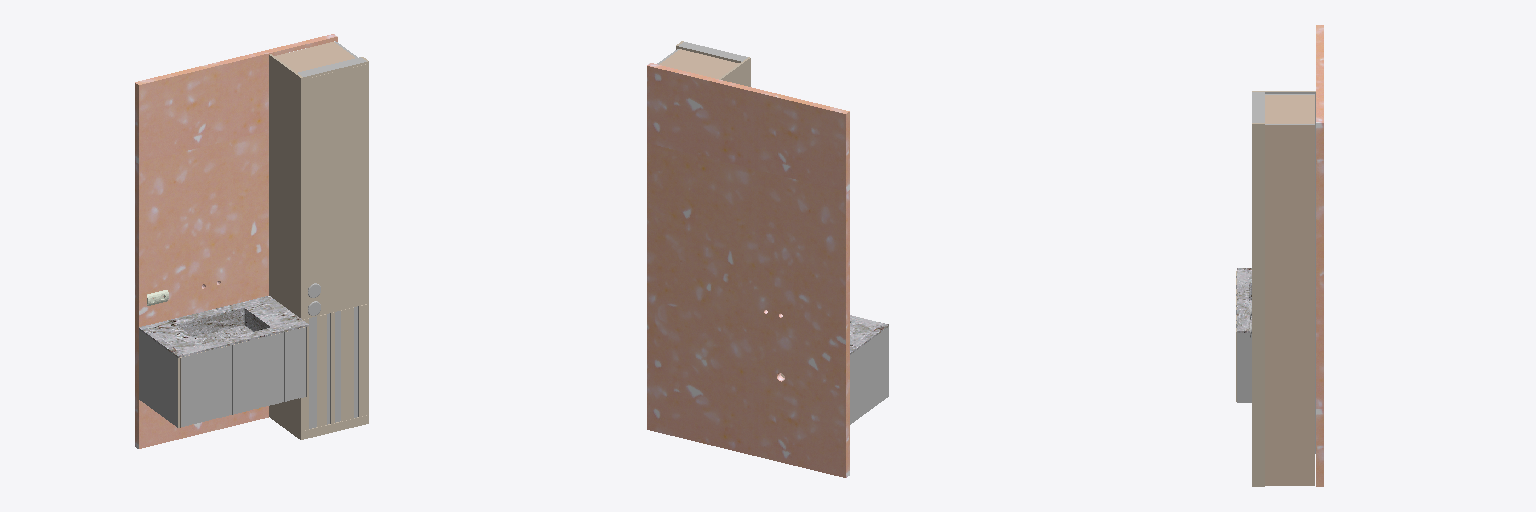
3 renders of one model, left to right at view 1: azimuth 30°, elevation 25°; view 2: azimuth 150°, elevation 25°; view 3: azimuth 270°, elevation 25°, orthographic.
Bounding box in the file's own units: 1455 × 2540 × 552.
Materials: 19 (5 with a texture image).